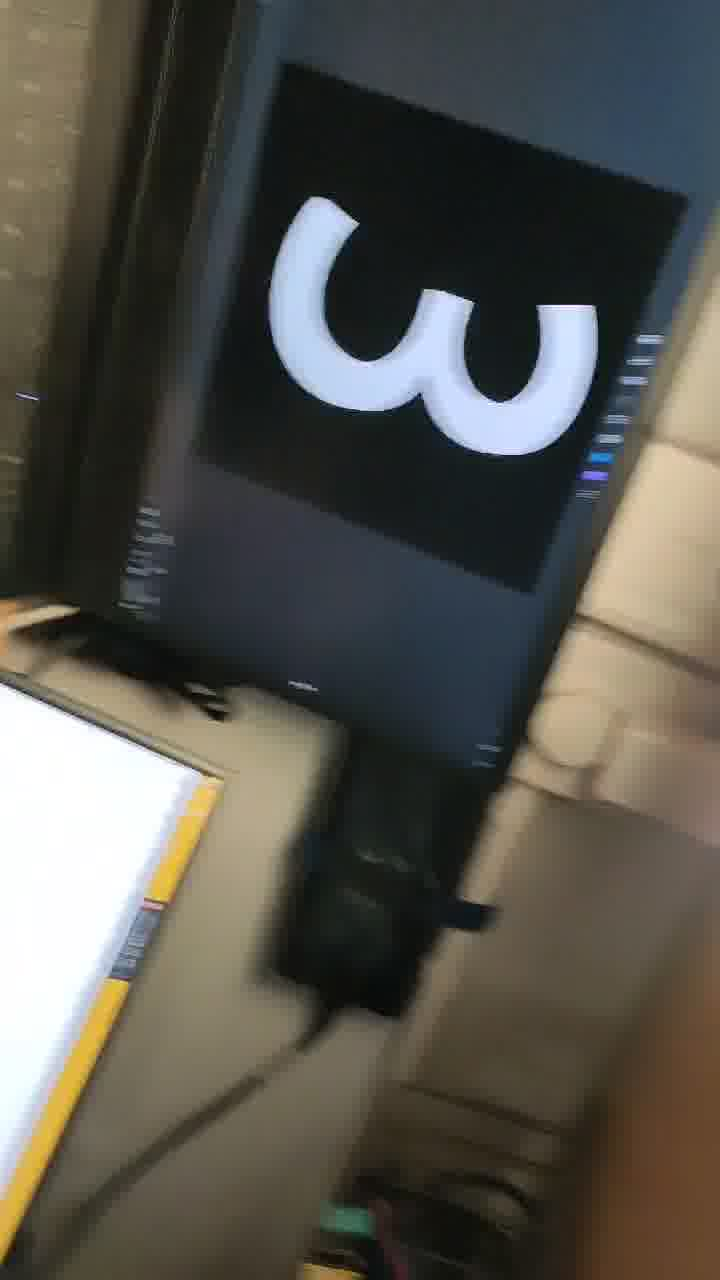three: (233, 175, 615, 546)
